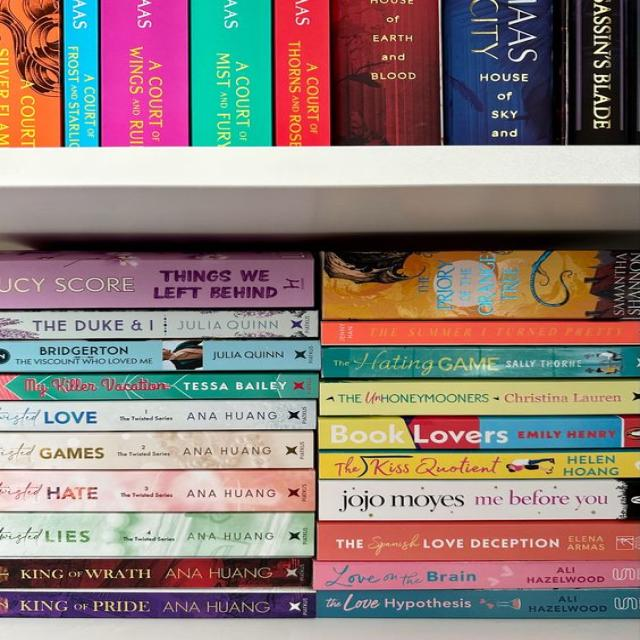book: (323, 249, 639, 319), (0, 254, 313, 309), (331, 0, 440, 145), (443, 0, 551, 144), (0, 513, 313, 557), (0, 469, 314, 511), (99, 0, 188, 146), (317, 521, 639, 561), (320, 480, 639, 520), (0, 431, 313, 469), (191, 0, 270, 146), (320, 380, 639, 415), (563, 0, 638, 145), (320, 416, 639, 449), (0, 340, 320, 372), (322, 346, 639, 378), (313, 560, 639, 591), (0, 400, 315, 431), (317, 588, 639, 618), (321, 450, 639, 479), (0, 311, 317, 340), (0, 559, 311, 588), (0, 0, 61, 146), (2, 590, 315, 618), (0, 373, 318, 400), (273, 0, 330, 146), (322, 321, 639, 345), (64, 0, 99, 146)
